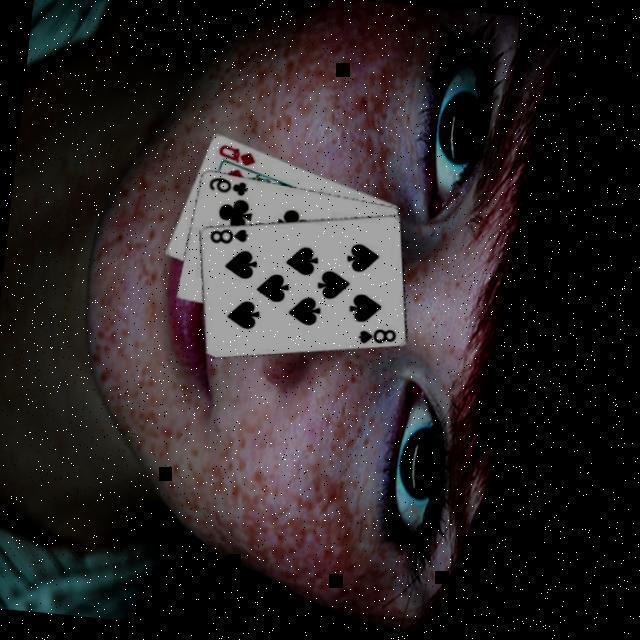6C: (206, 174, 252, 200)
8S: (206, 224, 252, 250), (356, 325, 400, 351)
QD: (215, 142, 259, 170)
